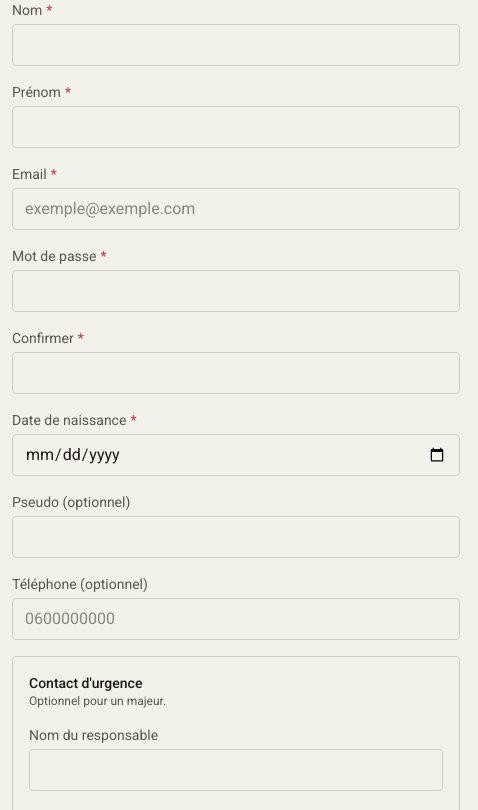
Test: AuthForm › blocks registration before showing the confirmation dialog when the email is already taken
In the field labelled "Nom": (236, 45) [12,24,460,66], type "Martin"
In the field labelled "Prénom": (236, 127) [12,106,460,148], type "Alex"
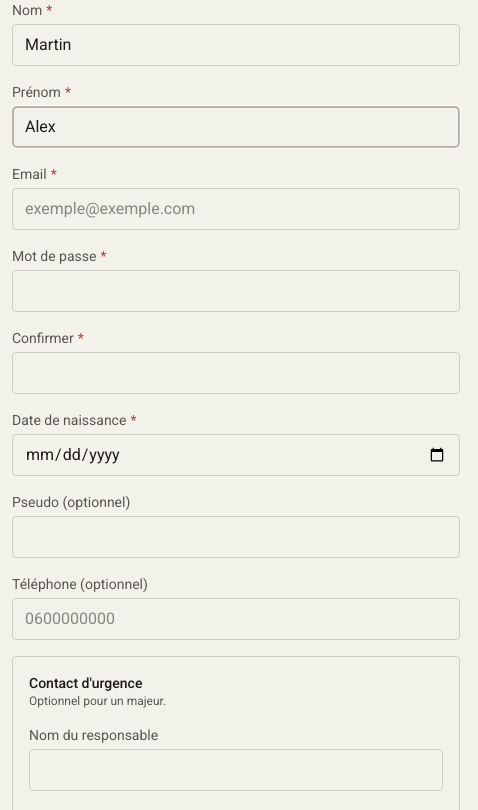
In the field labelled "Email": (236, 209) [12,188,460,230], type "test@test.test"
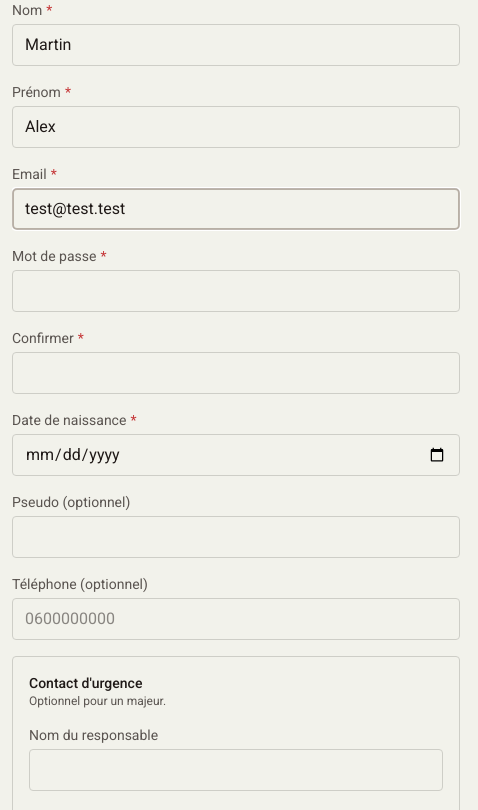
In the password field labelled "Mot de passe": (236, 291) [12,270,460,312], type "Password1234!"
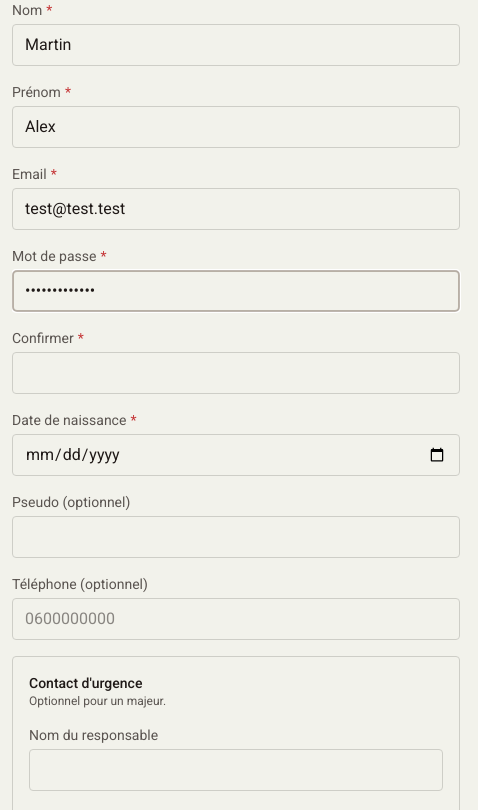
In the password field labelled "Confirmer": (236, 373) [12,352,460,394], type "Password1234!"
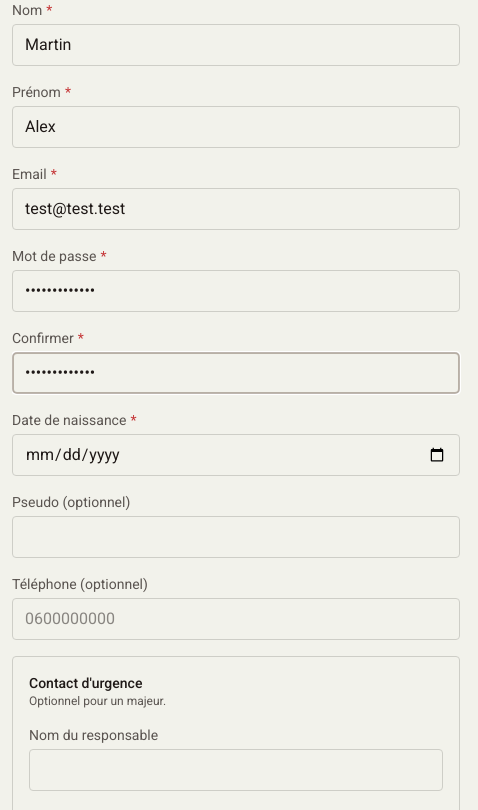
In the date field labelled "Date de naissance": (236, 455) [12,434,460,476], type "1992-01-01"
(page scrolled)
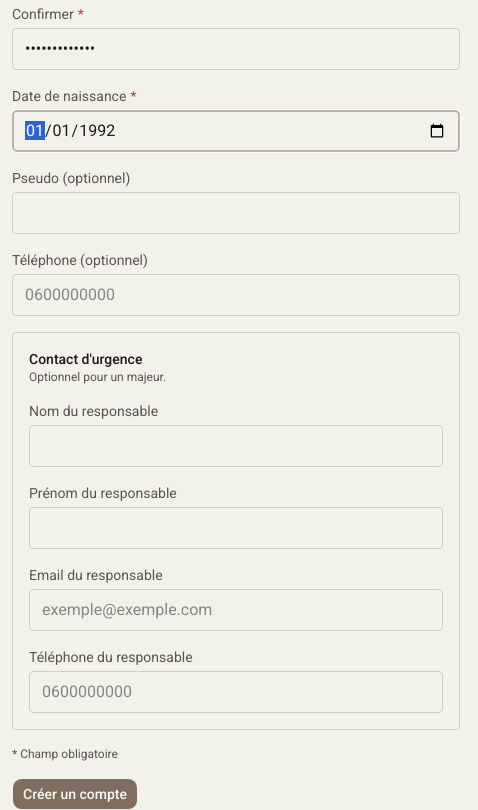
Click the button "Créer un compte": (75, 794) [12,778,138,809]
(page scrolled)
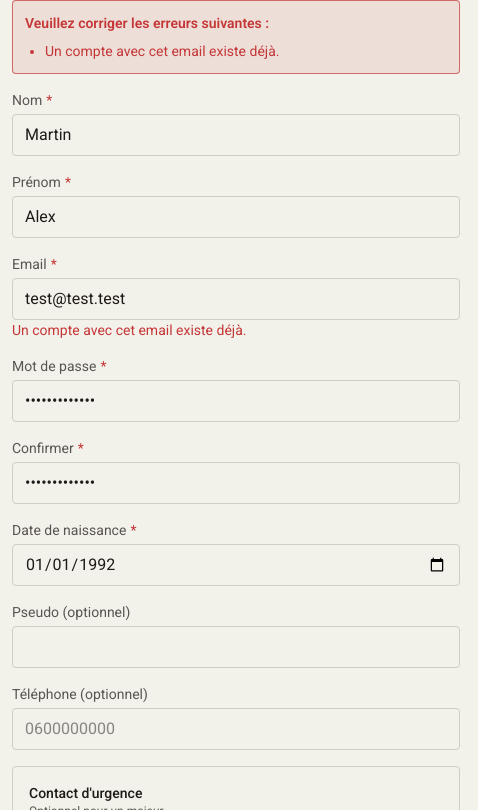
Expected: the list item "Un compte avec cet email existe déjà." is shown, [45,43,280,59]
